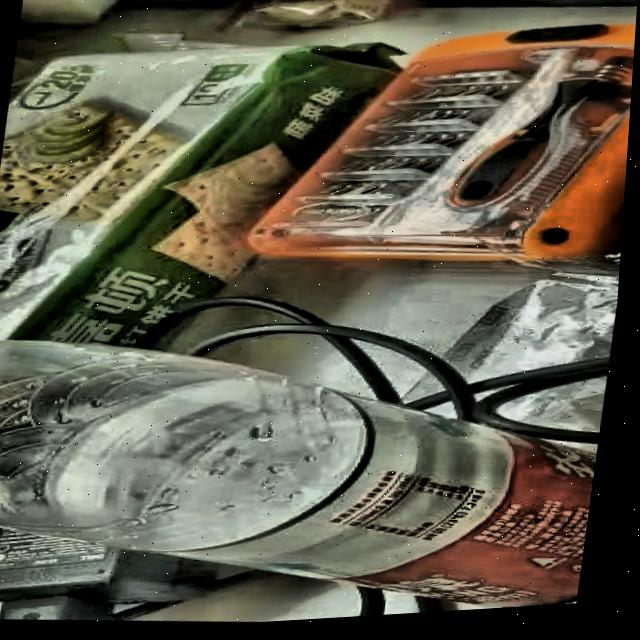plastic: (0, 293, 620, 640)
